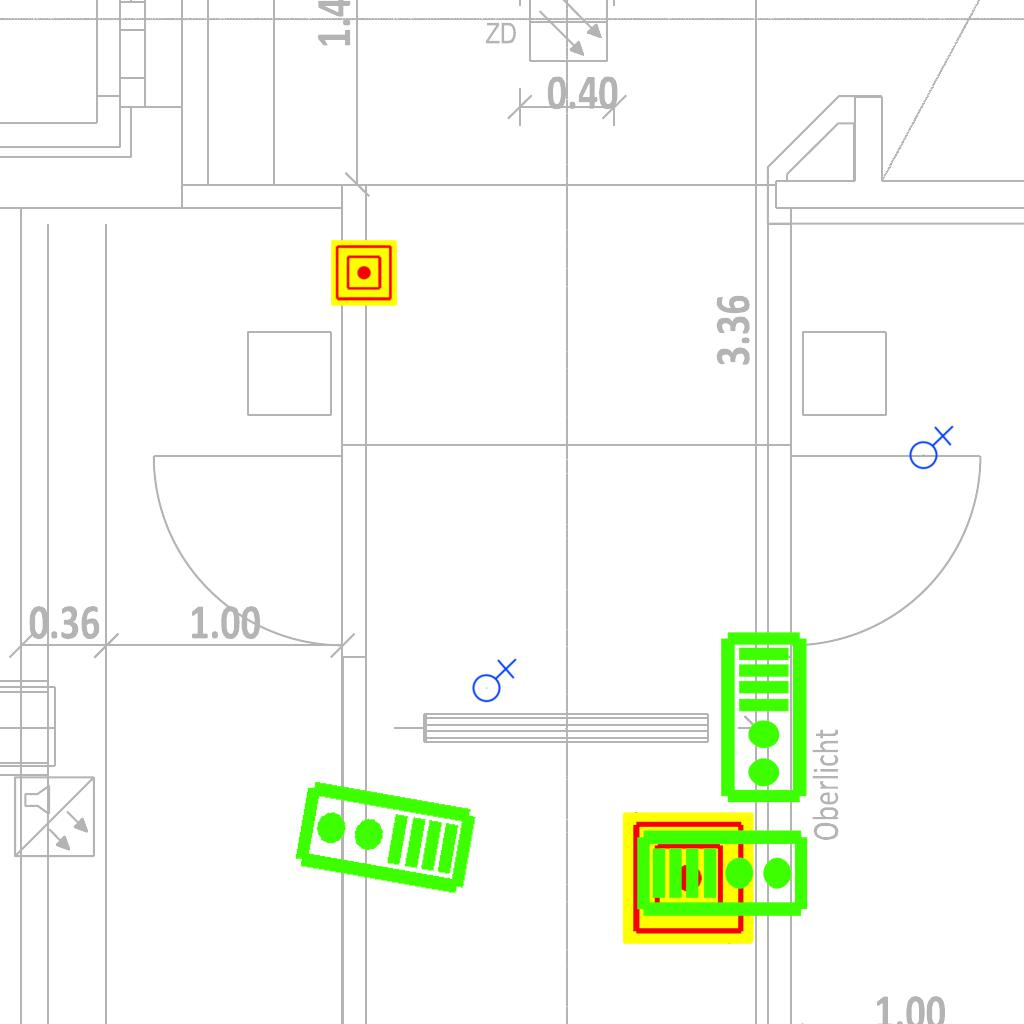Elektroanschluss_allgemein_230V_Geraeteanschlussdose_230V: (468, 656, 517, 703), (905, 423, 954, 470)
Gegensprechanlage_mit_Video: (289, 776, 480, 902), (718, 630, 813, 806), (635, 824, 811, 919)
NAM-Nichtautomatischer_Melder: (622, 812, 754, 944), (331, 240, 397, 306)
